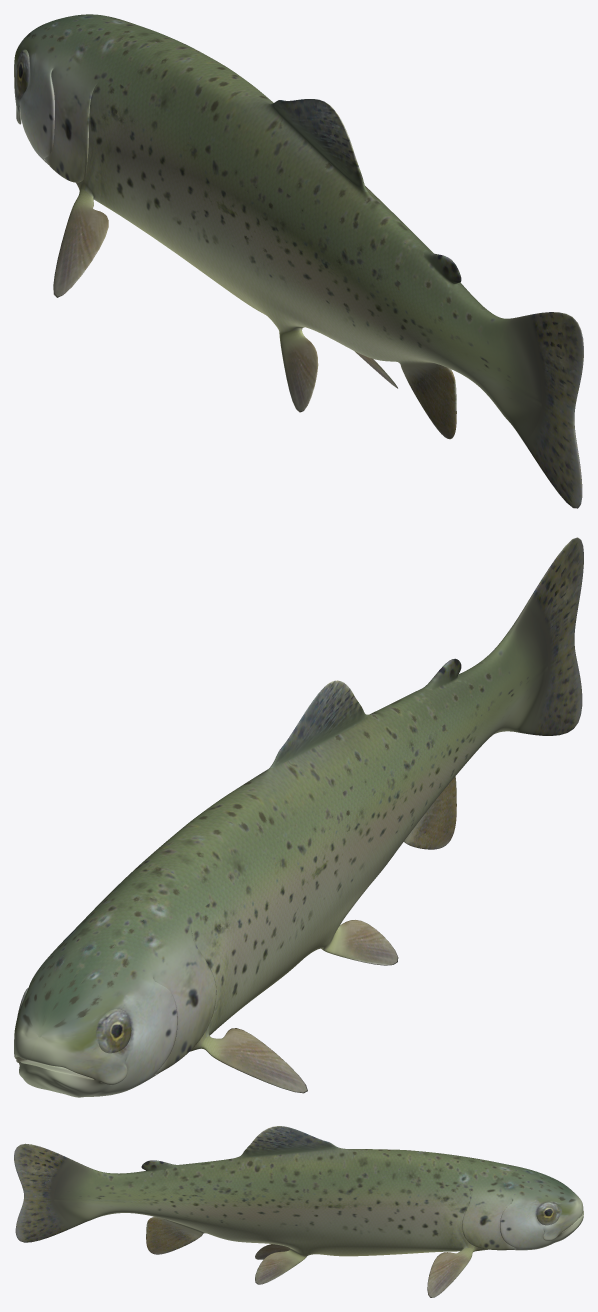
Rendered from Forelle.glb.
3 views of the same model, one above another, from view 1: azimuth 30°, elevation 25°; view 2: azimuth 150°, elevation 25°; view 3: azimuth 270°, elevation 25° (orthographic). The views are drawn at different scales.
Visible parts, largest first — view 1: forelle_text_ms_v02_008:FiorellePoly; view 2: forelle_text_ms_v02_008:FiorellePoly; view 3: forelle_text_ms_v02_008:FiorellePoly.
Part boxes in pixels (x1,y1,x2,y2): forelle_text_ms_v02_008:FiorellePoly: (14, 14, 583, 508); forelle_text_ms_v02_008:FiorellePoly: (14, 537, 583, 1097); forelle_text_ms_v02_008:FiorellePoly: (14, 1126, 583, 1297).
Bounding box in the file's own units: 5.27 × 5.66 × 19.99.
Materials: 1 (1 with a texture image).
